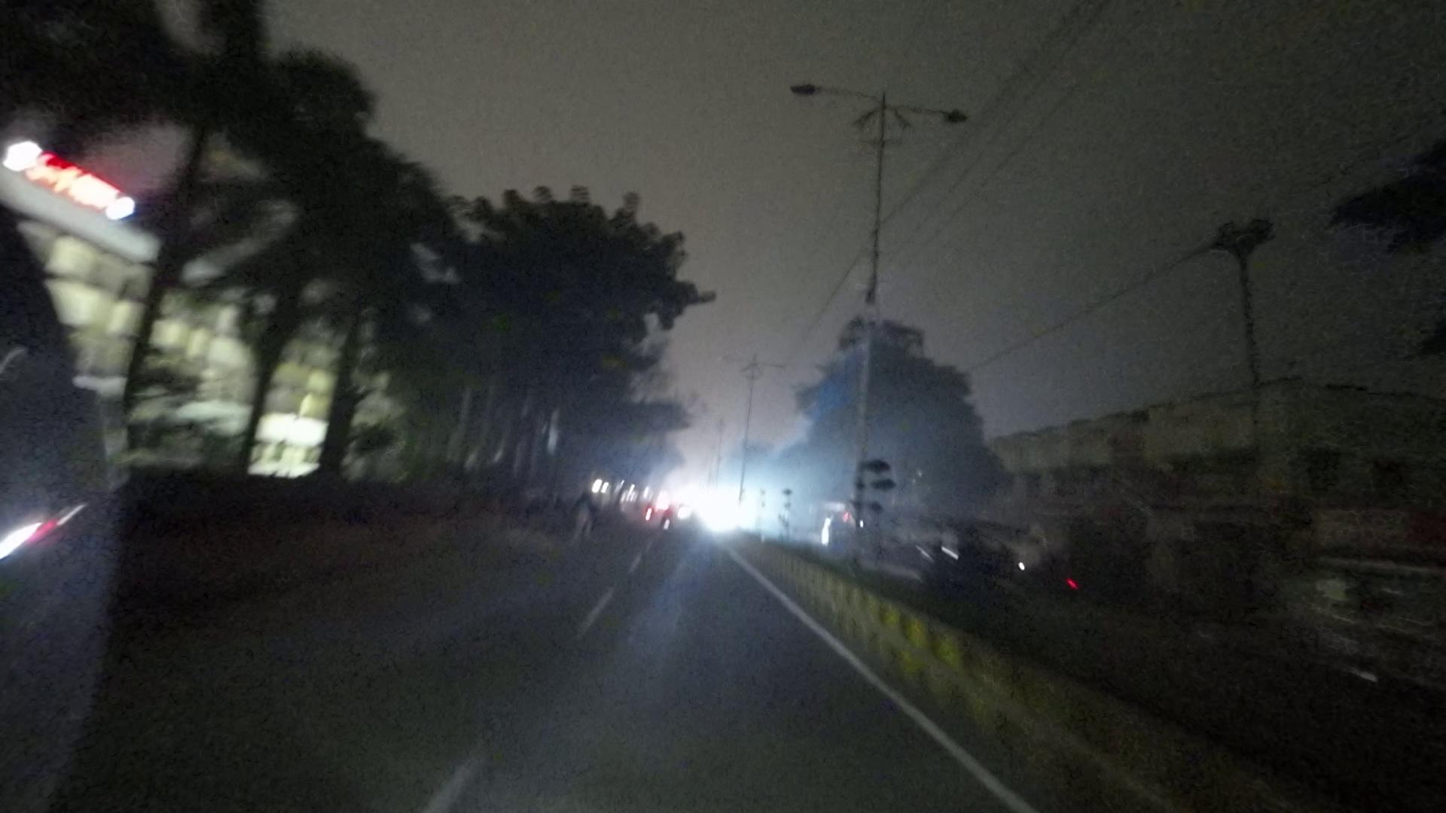streetlight: (790, 78, 882, 103), (898, 101, 974, 126)
